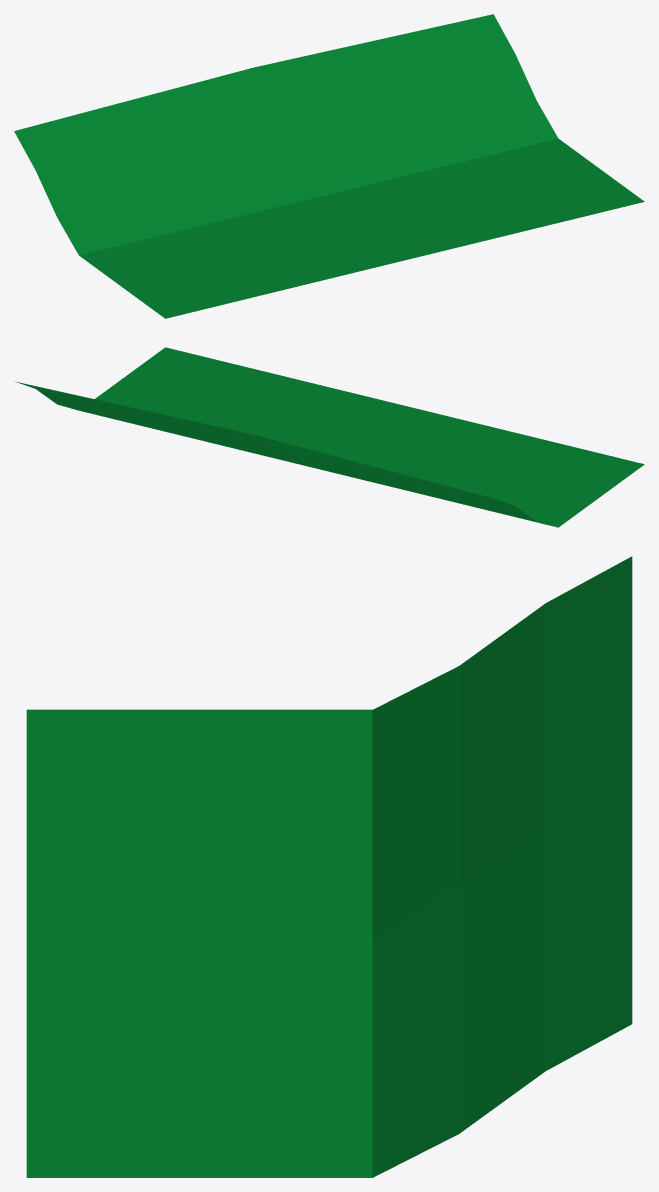
File: Border-Road-64m.fbx
3 views of the same model, one above another, from view 1: azimuth 30°, elevation 25°; view 2: azimuth 150°, elevation 25°; view 3: azimuth 270°, elevation 25° (orthographic). The views are drawn at different scales.
Visible parts, largest first — view 1: Grass; view 2: Grass; view 3: Grass.
Part boxes in pixels (x1=…): Grass: x1=14, y1=14, x2=644, y2=318; Grass: x1=15, y1=347, x2=644, y2=527; Grass: x1=26, y1=556, x2=632, y2=1177.
Bounding box in the file's own units: 64 × 10.45 × 35.
